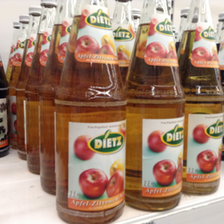juice: (55, 1, 127, 224), (126, 1, 186, 211), (177, 1, 223, 197)
